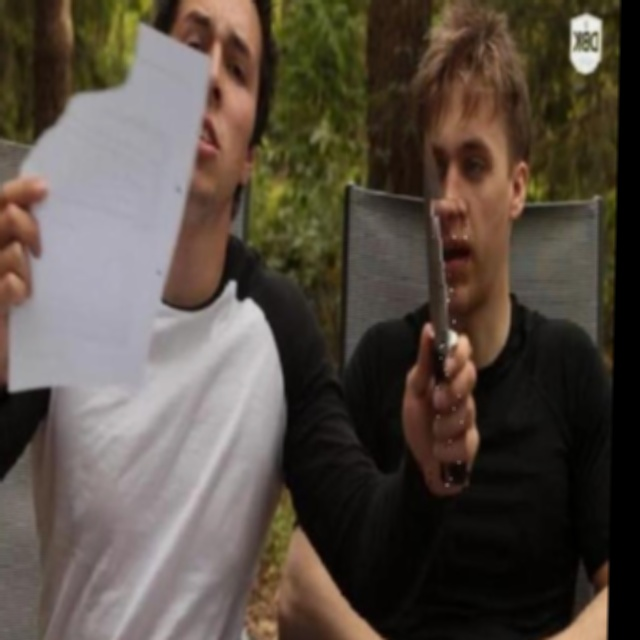Sharp-Object: (428, 197, 469, 486)
